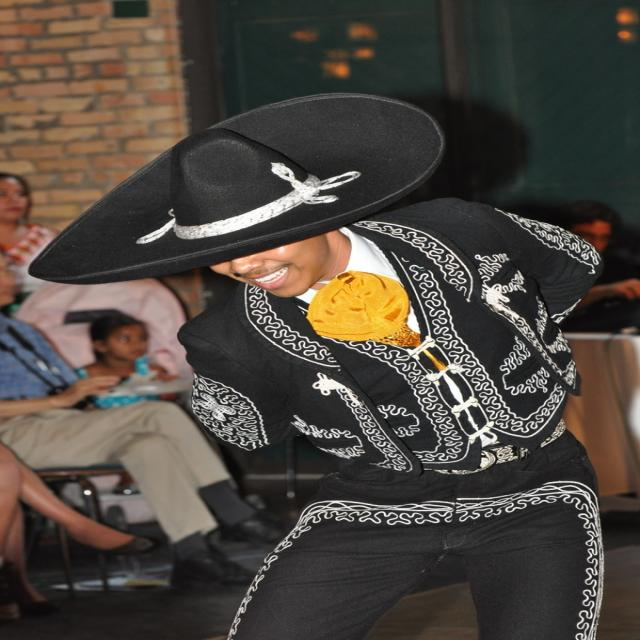Hat: (28, 92, 447, 287)
